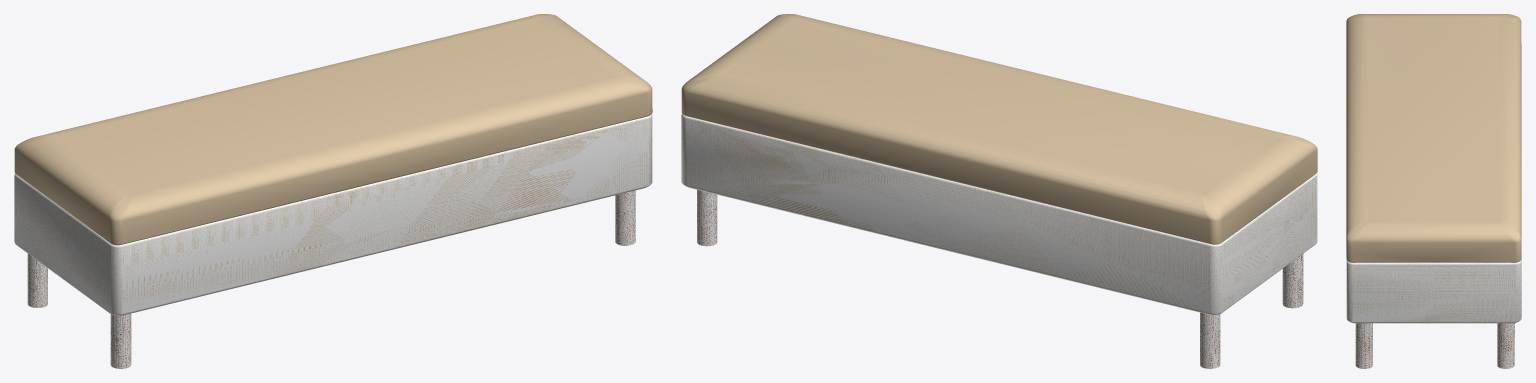
The picture shows the model from 3 angles, left to right: view 1: azimuth 30°, elevation 25°; view 2: azimuth 150°, elevation 25°; view 3: azimuth 270°, elevation 25°; orthographic projection. The views are drawn at different scales.
Visible parts, largest first — view 1: mesh2_mesh2-geometry, mesh3_mesh3-geometry, mesh1_mesh1-geometry; view 2: mesh2_mesh2-geometry, mesh3_mesh3-geometry, mesh1_mesh1-geometry; view 3: mesh2_mesh2-geometry, mesh3_mesh3-geometry, mesh1_mesh1-geometry.
Part boxes in pixels (x1,y1,x2,y2): mesh2_mesh2-geometry: (14,14,652,245); mesh3_mesh3-geometry: (14,114,652,315); mesh1_mesh1-geometry: (27,190,635,368); mesh2_mesh2-geometry: (681,14,1317,244); mesh3_mesh3-geometry: (681,114,1317,314); mesh1_mesh1-geometry: (697,190,1303,368); mesh2_mesh2-geometry: (1346,14,1521,262); mesh3_mesh3-geometry: (1346,44,1521,323); mesh1_mesh1-geometry: (1355,323,1514,368).
Bounding box in the file's own units: 0.9151 × 0.268 × 0.3012.
